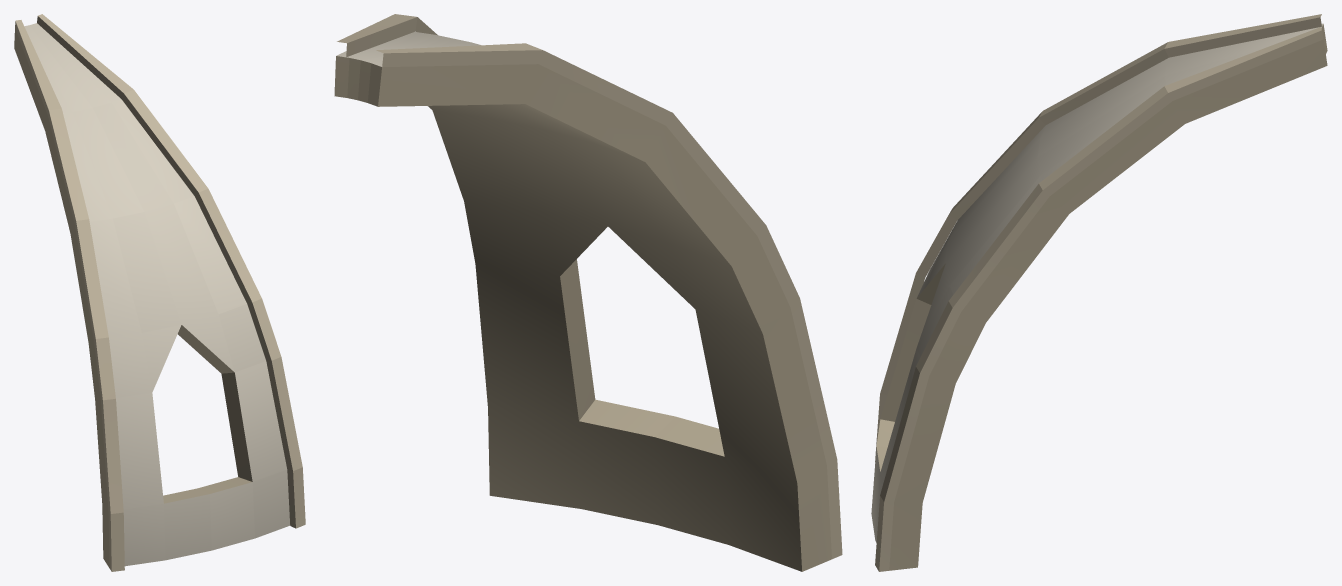
The model's file is dome.panel_12_window.plaster.glb.
3 views of the same model, side by side, from view 1: azimuth 30°, elevation 25°; view 2: azimuth 150°, elevation 25°; view 3: azimuth 270°, elevation 25° (orthographic). The views are drawn at different scales.
Parts seen in each view (by area): view 1: dome_panel_12_window_plaster; view 2: dome_panel_12_window_plaster; view 3: dome_panel_12_window_plaster.
Boxes of the visible parts, <box> form: dome_panel_12_window_plaster: <box>14,14,305,571</box>; dome_panel_12_window_plaster: <box>334,14,842,571</box>; dome_panel_12_window_plaster: <box>871,14,1327,571</box>.
Size of what is drawn, in the model's own units: 1.85 by 3.63 by 3.06.
